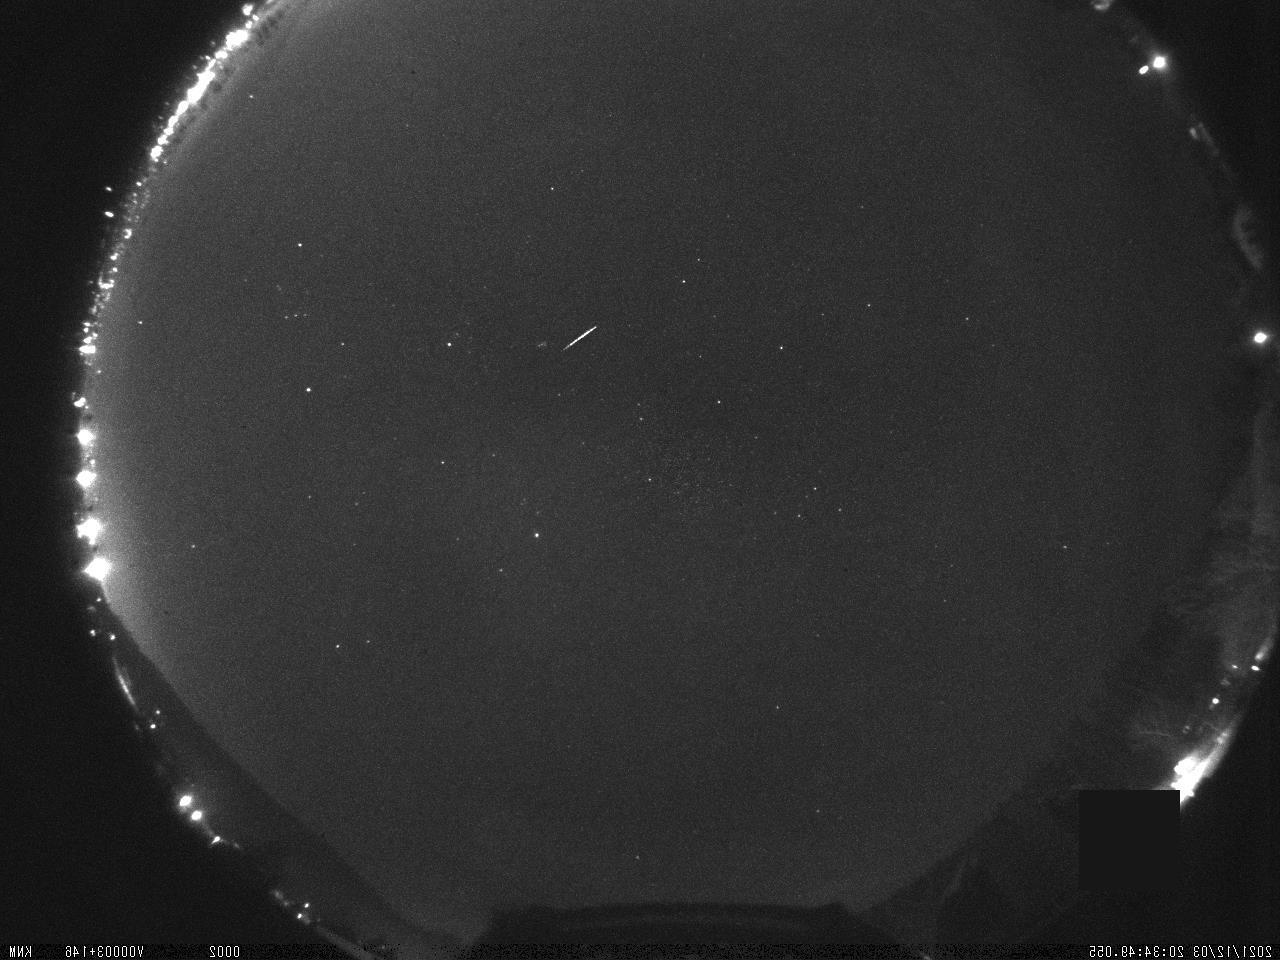meteor: (553, 312, 608, 356)
